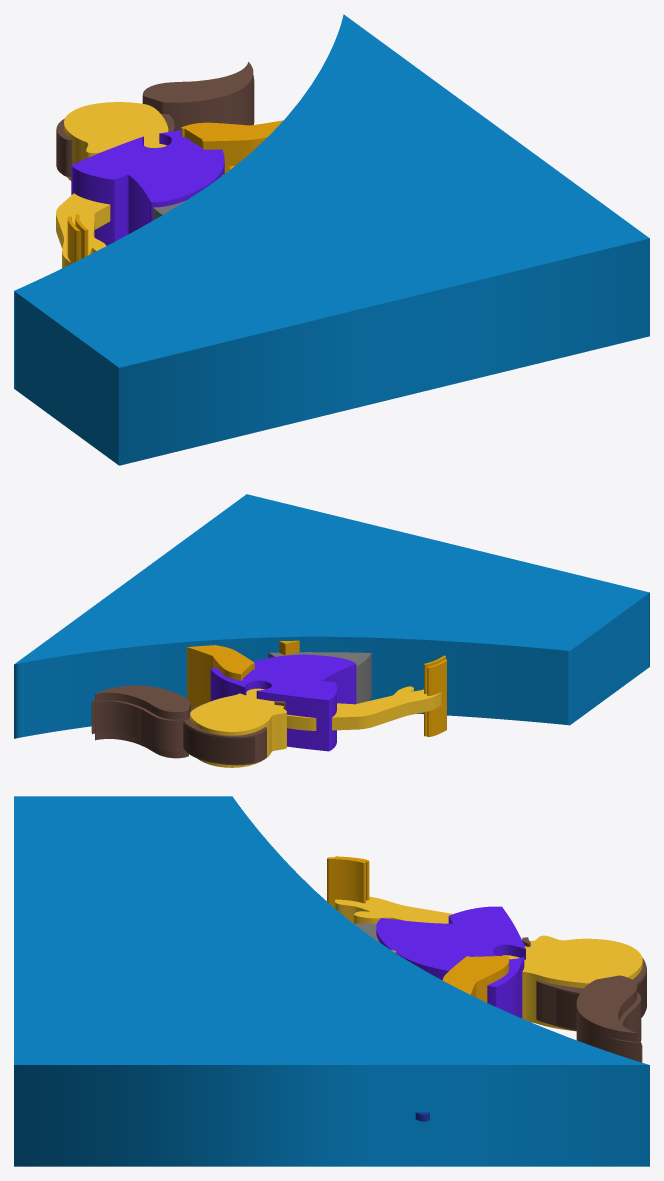
File: emoji_u1f3c4_200d_2640.glb
3 views of the same model, one above another, from view 1: azimuth 30°, elevation 25°; view 2: azimuth 150°, elevation 25°; view 3: azimuth 270°, elevation 25° (orthographic). The views are drawn at different scales.
Visible parts, largest first — view 1: emoji_u1f3c4_200d_2640; view 2: emoji_u1f3c4_200d_2640; view 3: emoji_u1f3c4_200d_2640.
Part boxes in pixels (x1,y1,x2,y2): emoji_u1f3c4_200d_2640: [14, 14, 649, 465]; emoji_u1f3c4_200d_2640: [14, 494, 649, 767]; emoji_u1f3c4_200d_2640: [14, 796, 649, 1166].
Size of the model in its own units: 0.0332 by 0.0058 by 0.0329.
